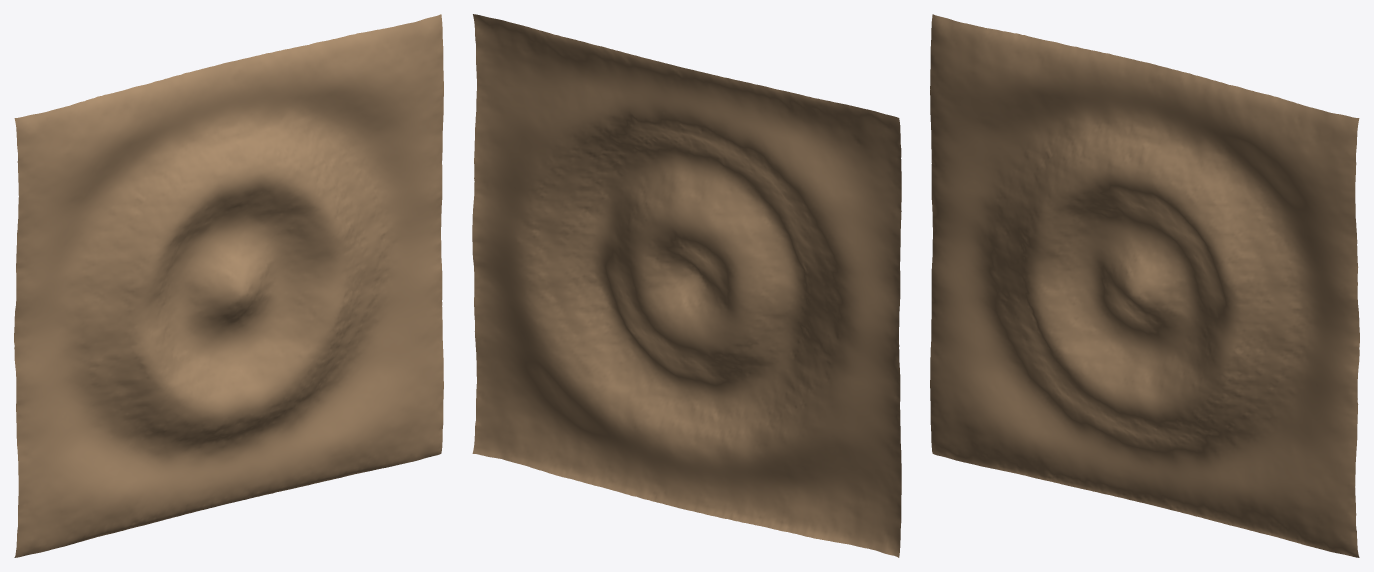
The model's file is real_droplet.glb.
3 views of the same model, side by side, from view 1: azimuth 30°, elevation 25°; view 2: azimuth 150°, elevation 25°; view 3: azimuth 330°, elevation 25° (orthographic).
Parts seen in each view (by area): view 1: result-20251229_213016-droplet; view 2: result-20251229_213016-droplet; view 3: result-20251229_213016-droplet.
Part boxes in pixels (bbox=[...]): result-20251229_213016-droplet: bbox=[14, 14, 443, 557]; result-20251229_213016-droplet: bbox=[472, 14, 901, 557]; result-20251229_213016-droplet: bbox=[930, 14, 1359, 557].
Size of the model in its own units: 1.28 by 1.26 by 0.0932.
